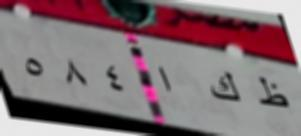4: (100, 61, 128, 102)
5: (23, 51, 46, 84)
8: (62, 57, 90, 96)
Thaa: (254, 72, 293, 118)
alif: (157, 62, 173, 98)
kaaf: (208, 66, 243, 112)
